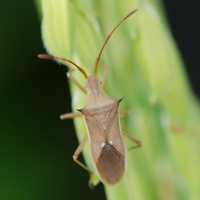insect: (38, 9, 140, 184)
